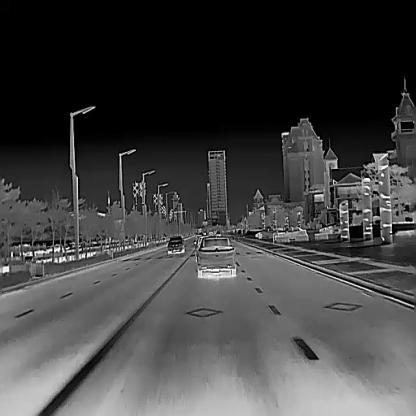car: (194, 233, 236, 276), (274, 225, 307, 238), (167, 233, 185, 254), (254, 227, 278, 238)
